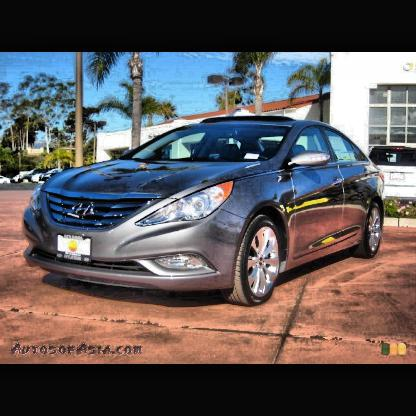Hyundai Sonata Sedan 2012: (14, 106, 396, 321)
